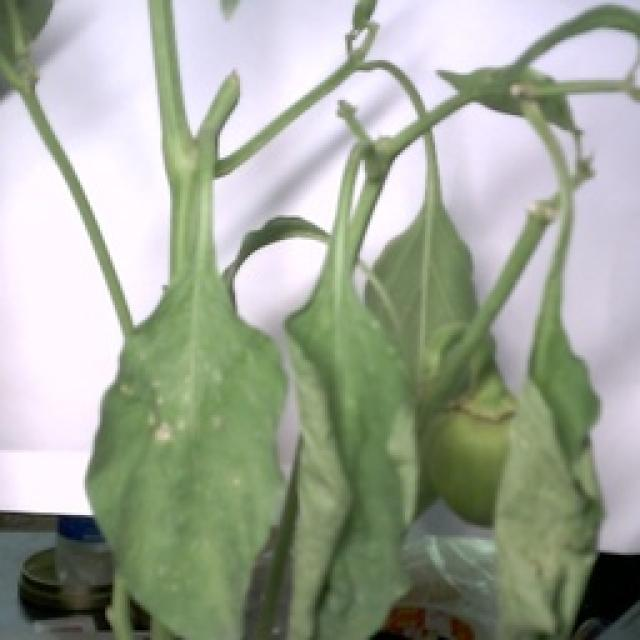Leaf: (84, 260, 286, 633), (282, 262, 412, 640), (497, 311, 604, 640)
